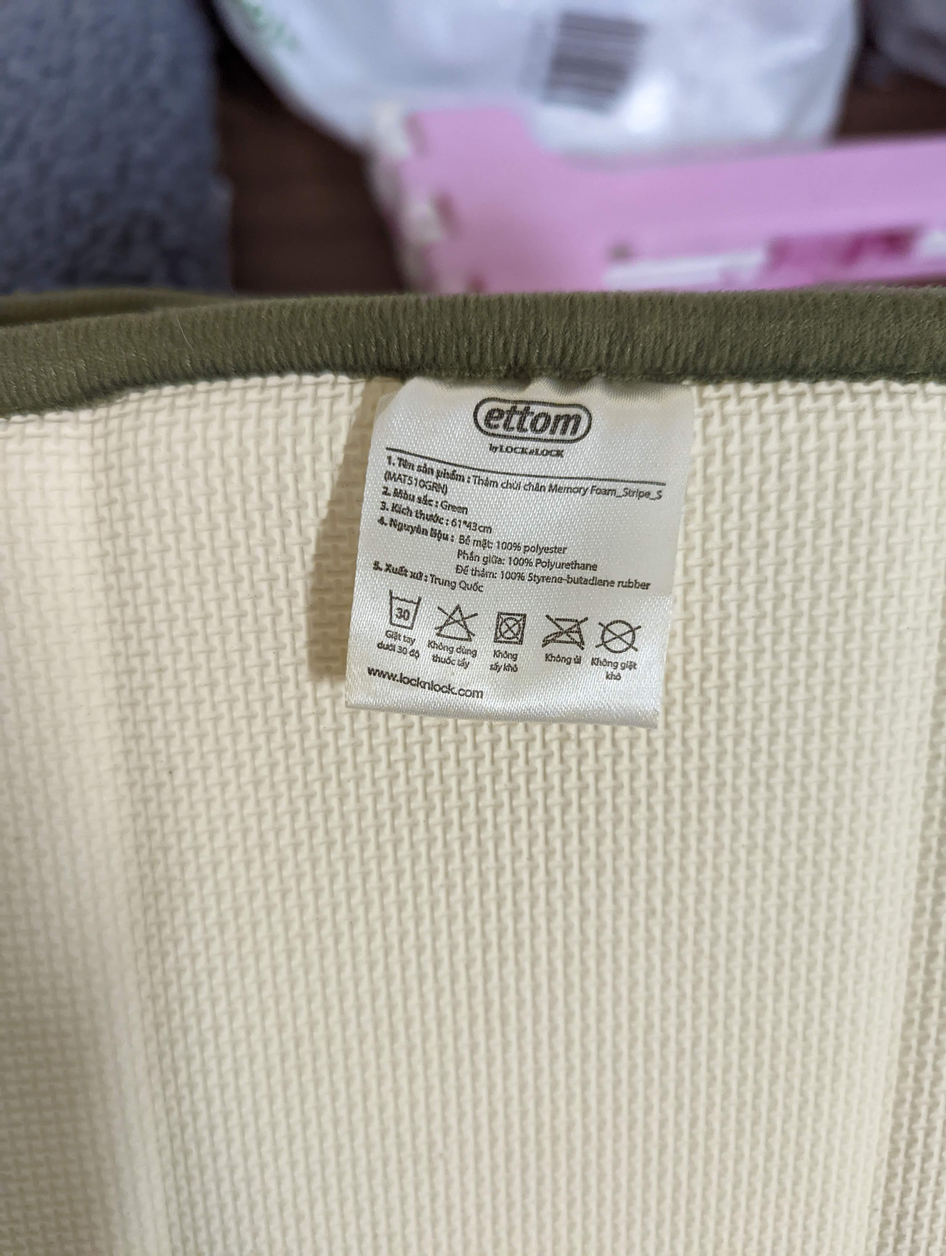ER_no_bleach: (430, 593, 484, 643)
ER_no_dry_clean: (595, 612, 643, 656)
ER_no_iron: (542, 604, 591, 653)
ER_no_tumble_dry: (490, 601, 528, 648)
wash-care-symbols: (385, 584, 424, 635)
